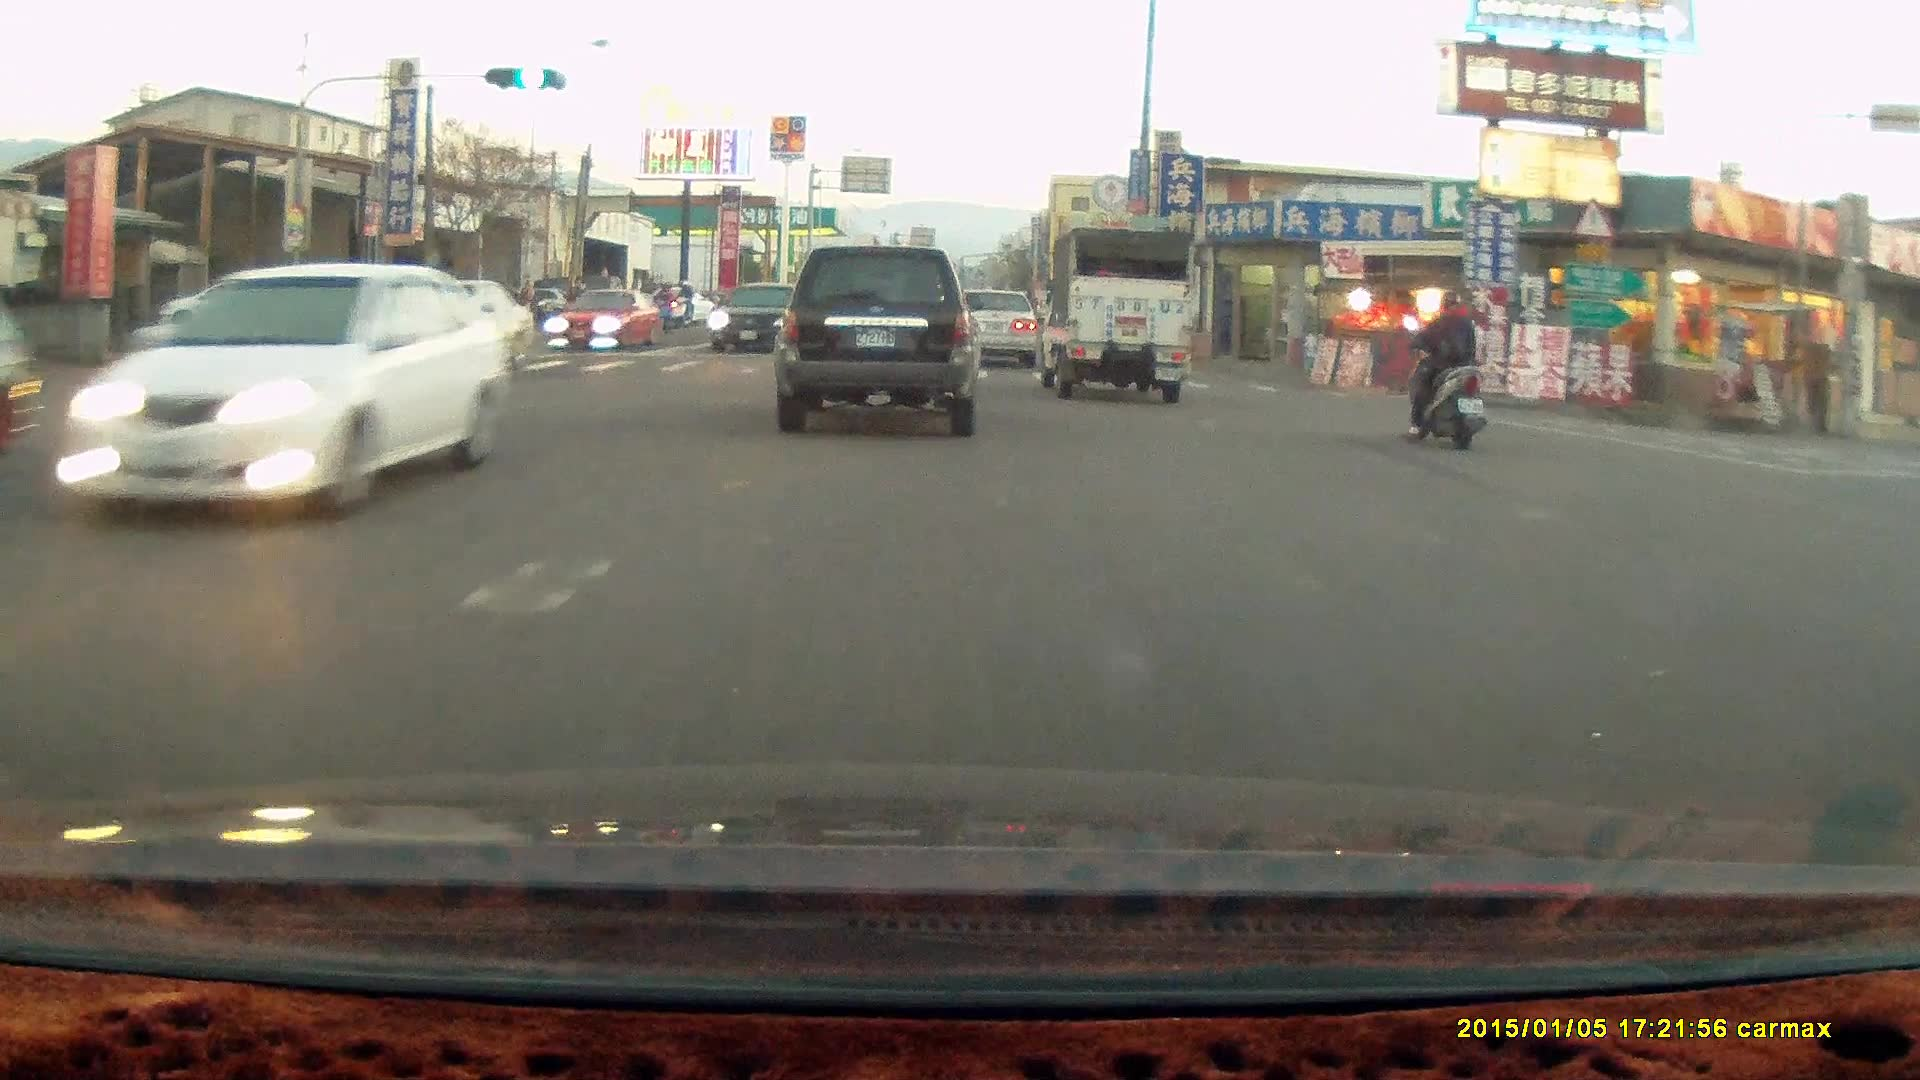rider: (1400, 284, 1487, 445), (665, 278, 695, 327)
vehicle: (76, 261, 504, 528), (771, 244, 985, 436), (1030, 227, 1193, 404), (320, 284, 519, 398), (157, 279, 308, 333), (708, 281, 820, 354), (944, 286, 1037, 368), (951, 289, 1041, 370), (560, 285, 661, 353)
